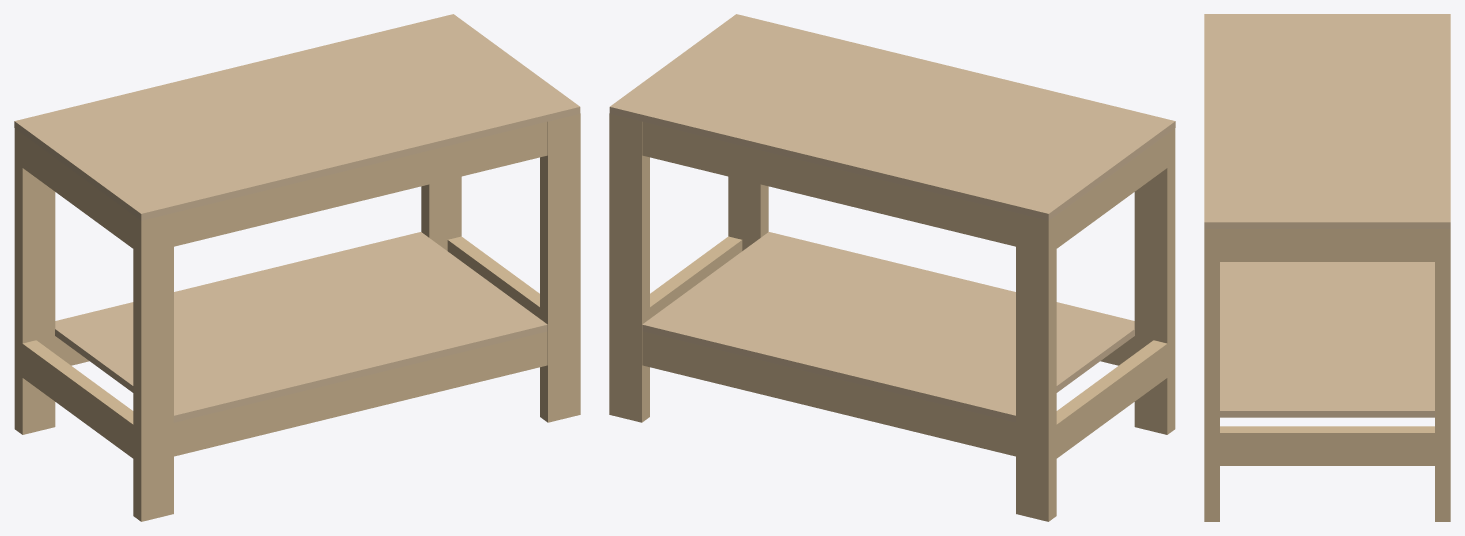
The model's file is oiled.glb.
3 renders of one model, left to right at view 1: azimuth 30°, elevation 25°; view 2: azimuth 150°, elevation 25°; view 3: azimuth 270°, elevation 25°, orthographic. The views are drawn at different scales.
Parts seen in each view (by area): view 1: top.1, shelf.1, long_rail.2, long_rail.4, leg.3, leg.4, leg.1, short_rail.1, short_rail.3, leg.2, short_rail.2; view 2: top.1, shelf.1, long_rail.1, long_rail.3, leg.1, leg.2, leg.3, short_rail.1, short_rail.3, leg.4, short_rail.2; view 3: top.1, shelf.1, short_rail.2, short_rail.4, leg.2, leg.4.
Part boxes in pixels (x1,y1,x2,y2): top.1: (14, 14, 580, 220); shelf.1: (55, 232, 547, 422); long_rail.2: (174, 331, 547, 456); long_rail.4: (174, 121, 547, 246); leg.3: (133, 213, 173, 521); leg.4: (540, 113, 580, 422); leg.1: (14, 128, 55, 434); short_rail.1: (22, 340, 133, 458); short_rail.3: (22, 134, 133, 248); leg.2: (421, 176, 461, 250); short_rail.2: (447, 236, 539, 318); top.1: (609, 14, 1175, 220); shelf.1: (642, 232, 1134, 422); long_rail.1: (642, 331, 1015, 456); long_rail.3: (642, 121, 1015, 246); leg.1: (1016, 213, 1056, 521); leg.2: (609, 113, 649, 422); leg.3: (1134, 128, 1175, 434); short_rail.1: (1056, 340, 1167, 458); short_rail.3: (1056, 134, 1167, 248); leg.4: (728, 176, 768, 250); short_rail.2: (650, 236, 742, 318); top.1: (1204, 14, 1450, 228); shelf.1: (1220, 262, 1434, 417); short_rail.2: (1220, 426, 1434, 465); short_rail.4: (1220, 229, 1434, 261); leg.2: (1435, 229, 1450, 521); leg.4: (1204, 229, 1219, 521).
Bounding box in the file's own units: 1.2 × 0.8045 × 0.6.
